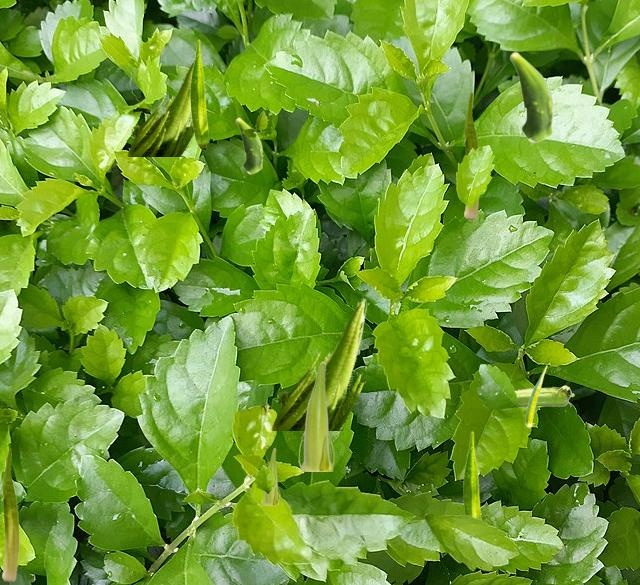okra: (271, 297, 368, 429), (126, 53, 203, 155), (509, 51, 553, 142), (297, 361, 333, 470), (2, 448, 18, 580), (190, 39, 208, 148), (464, 92, 479, 218), (463, 431, 482, 518), (235, 117, 262, 173), (525, 365, 546, 427), (515, 385, 573, 406), (261, 448, 279, 504)
